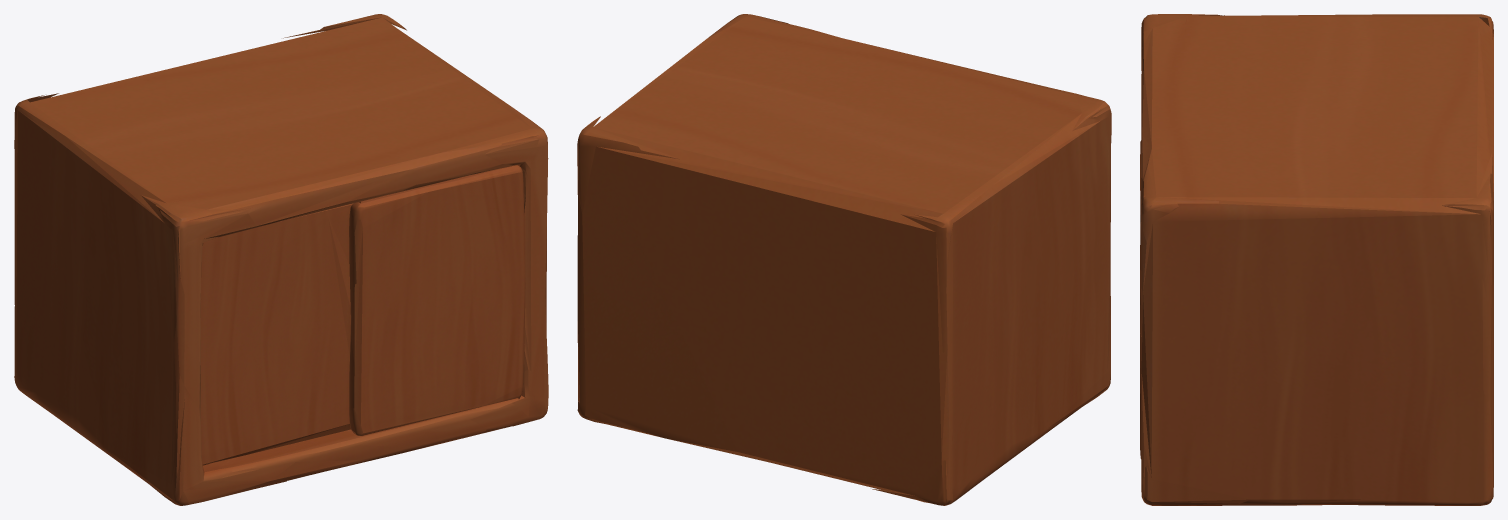
File: raw_cabinet.glb
3 renders of one model, left to right at view 1: azimuth 30°, elevation 25°; view 2: azimuth 150°, elevation 25°; view 3: azimuth 270°, elevation 25°, orthographic. The views are drawn at different scales.
Size of the model in its own units: 1.9 by 1.41 by 1.48.
1 material, 1 textured.
